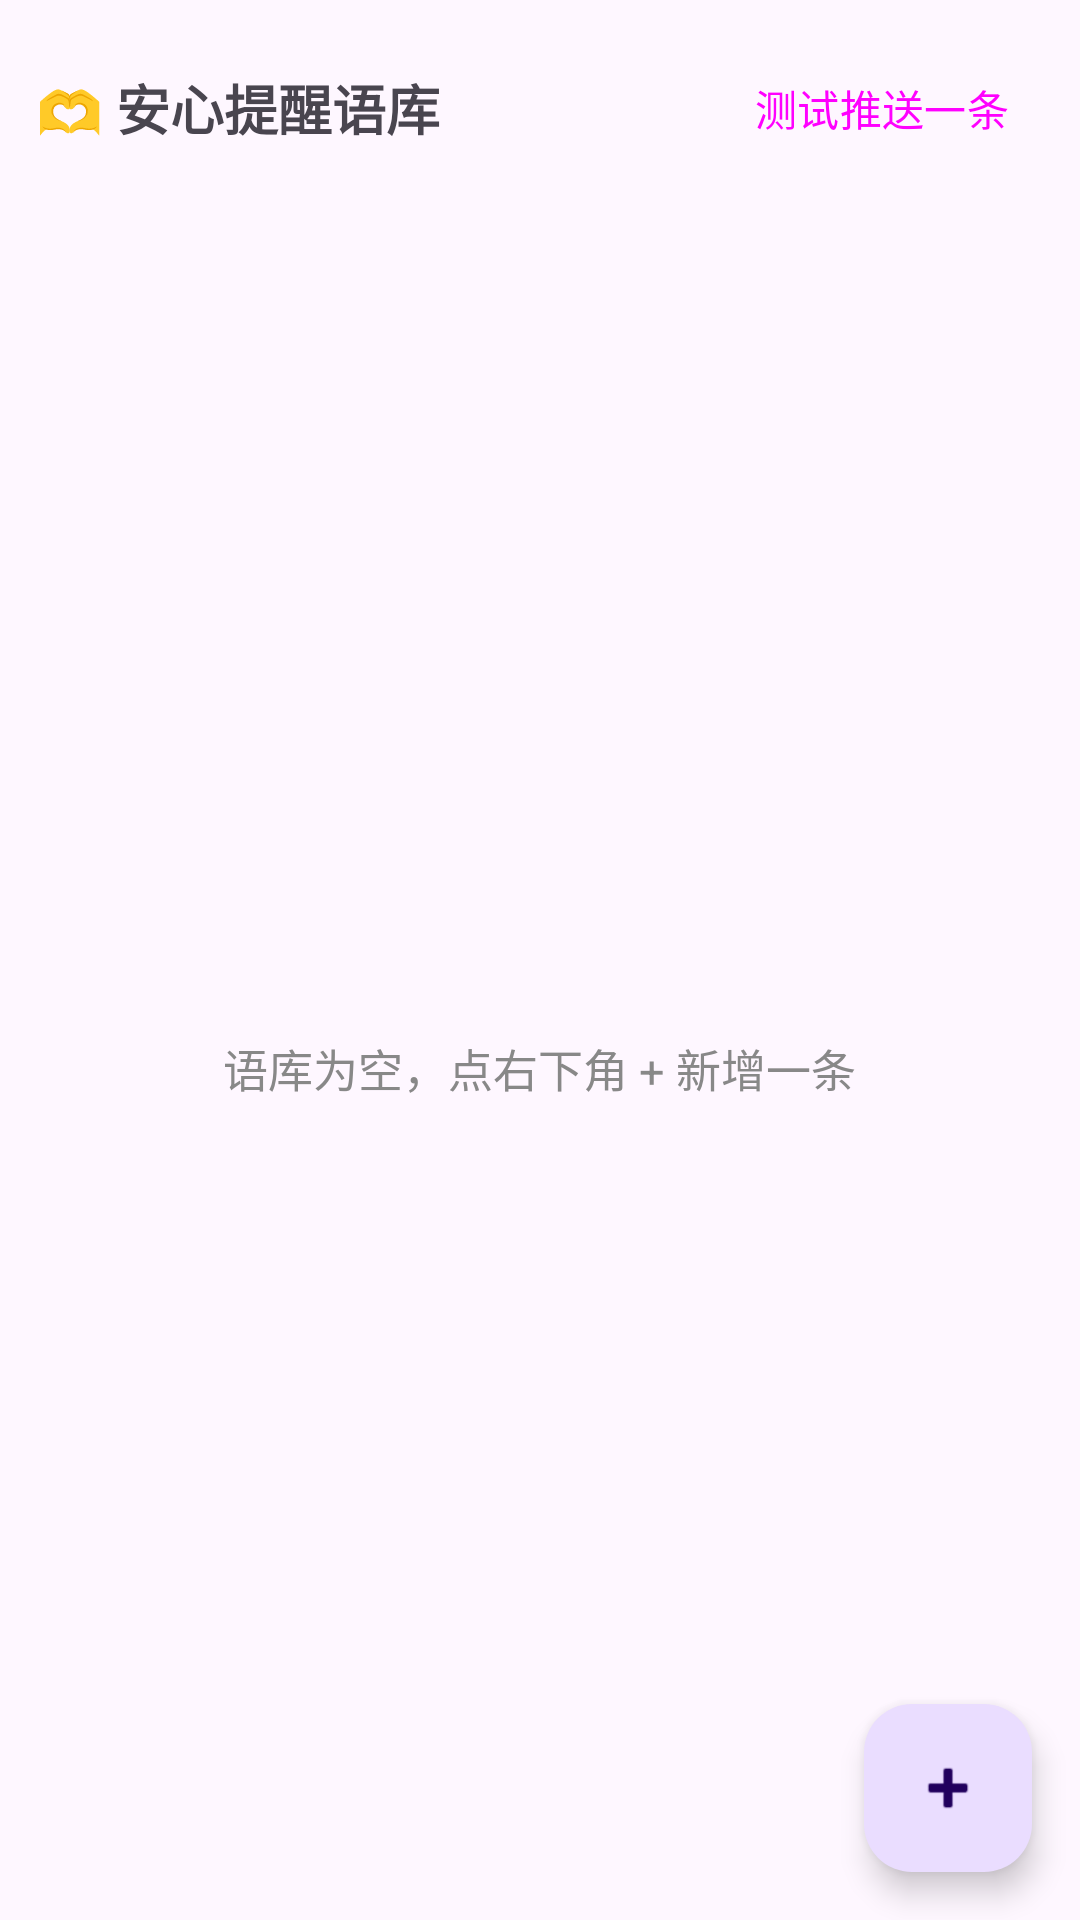

Named icons in this screenshot (1080 × 1920) and their centers, point (x, y):
新增安心提醒: point (948, 1788)
